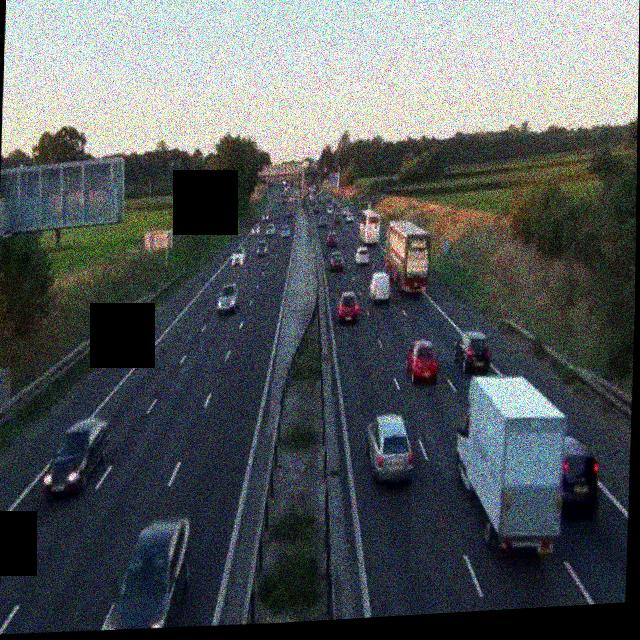bus: (360, 207, 379, 246)
car: (104, 516, 191, 631), (43, 417, 109, 500), (365, 412, 415, 486), (558, 433, 600, 518), (454, 329, 493, 376), (404, 338, 438, 383), (369, 270, 391, 304), (336, 291, 359, 323), (217, 282, 238, 313), (355, 245, 372, 266), (328, 250, 343, 273), (231, 246, 245, 267), (256, 238, 268, 257), (326, 230, 338, 246), (265, 223, 275, 238), (345, 208, 355, 222), (280, 223, 289, 238), (318, 214, 328, 227), (251, 221, 260, 234), (261, 210, 270, 223), (311, 200, 319, 214)
truck: (452, 369, 569, 561), (384, 217, 431, 293)
